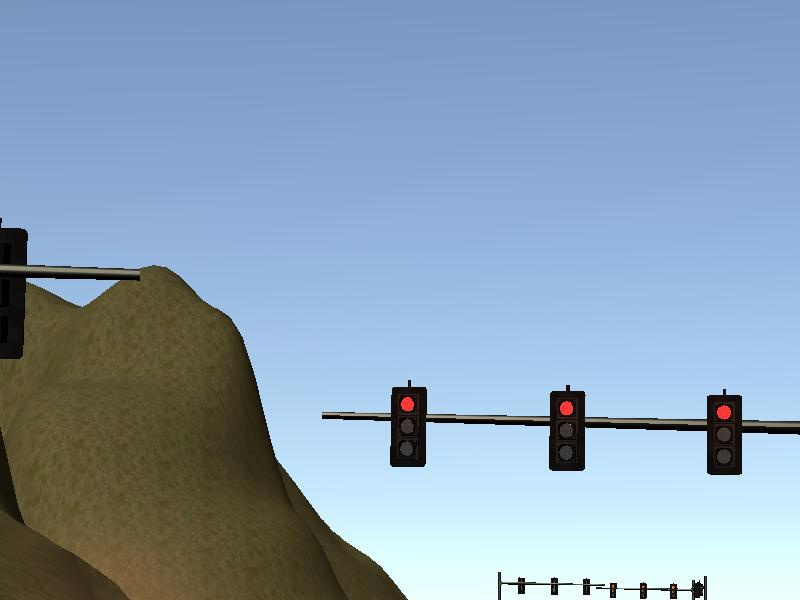red_light: (709, 397, 744, 475), (550, 394, 583, 470), (395, 386, 427, 462)
